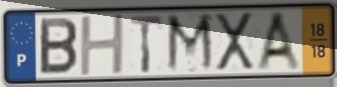A: (254, 9, 305, 73)
B: (37, 16, 80, 77)
H: (78, 12, 127, 79)
M: (165, 12, 218, 75)
T: (128, 13, 165, 75)
X: (212, 11, 257, 74)
